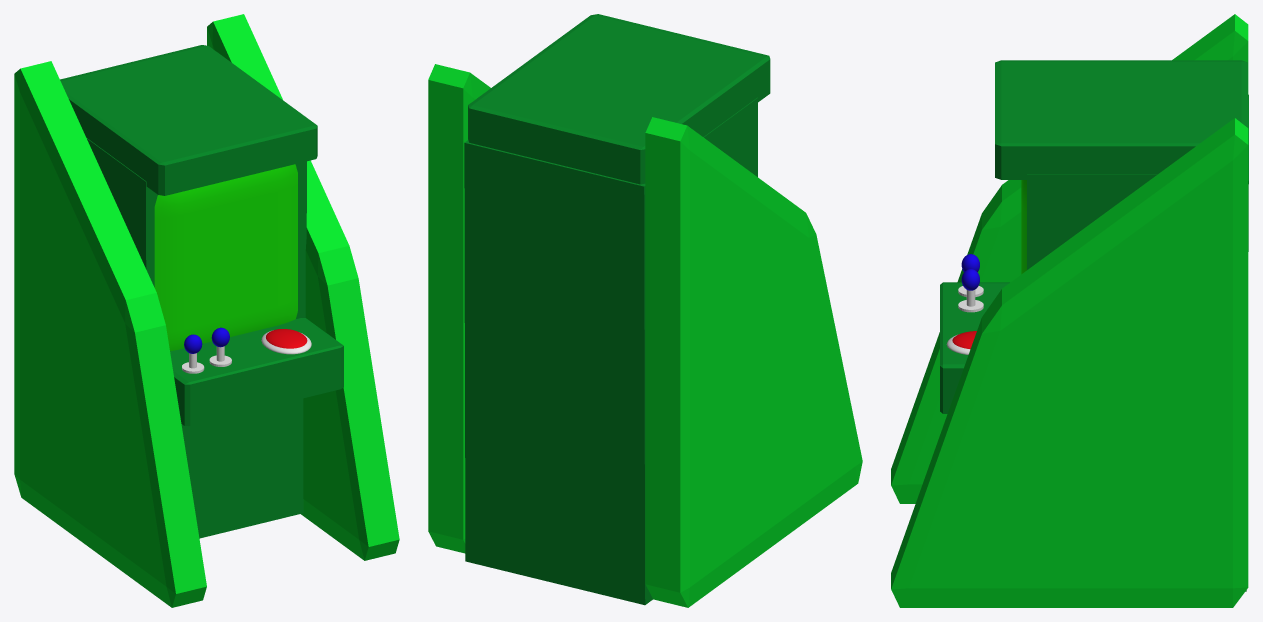
File: АВТОМАТ С ИГРАМИfbx.fbx
The picture shows the model from 3 angles, left to right: view 1: azimuth 30°, elevation 25°; view 2: azimuth 150°, elevation 25°; view 3: azimuth 270°, elevation 25°; orthographic projection. The views are drawn at different scales.
Visible parts, largest first — view 1: Cube.002, Cube, Cube.001, Cube.003, Cube.004, Cube.005, Cube.007, Cube.008, Sphere; view 2: Cube.002, Cube.006, Cube, Cube.001, Cube.007; view 3: Cube.001, Cube, Cube.002, Cube.008, Cube.005, Cube.003.
Part boxes in pixels (<box>): Cube.002: <box>14,61,206,607</box>; Cube: <box>60,45,317,195</box>; Cube.001: <box>207,14,399,560</box>; Cube.003: <box>154,164,297,351</box>; Cube.004: <box>181,398,303,538</box>; Cube.005: <box>170,318,343,426</box>; Cube.007: <box>86,138,157,287</box>; Cube.008: <box>295,161,306,318</box>; Sphere: <box>266,329,307,348</box>; Cube.002: <box>645,117,862,607</box>; Cube.006: <box>464,140,652,605</box>; Cube: <box>468,14,770,184</box>; Cube.001: <box>428,64,490,553</box>; Cube.007: <box>703,97,757,176</box>; Cube.001: <box>891,118,1248,607</box>; Cube: <box>995,60,1247,179</box>; Cube.002: <box>891,14,1248,503</box>; Cube.008: <box>1027,174,1156,269</box>; Cube.005: <box>940,282,1009,413</box>; Cube.003: <box>1021,180,1026,274</box>.
Bounding box in the file's own units: 541 × 980 × 669.
